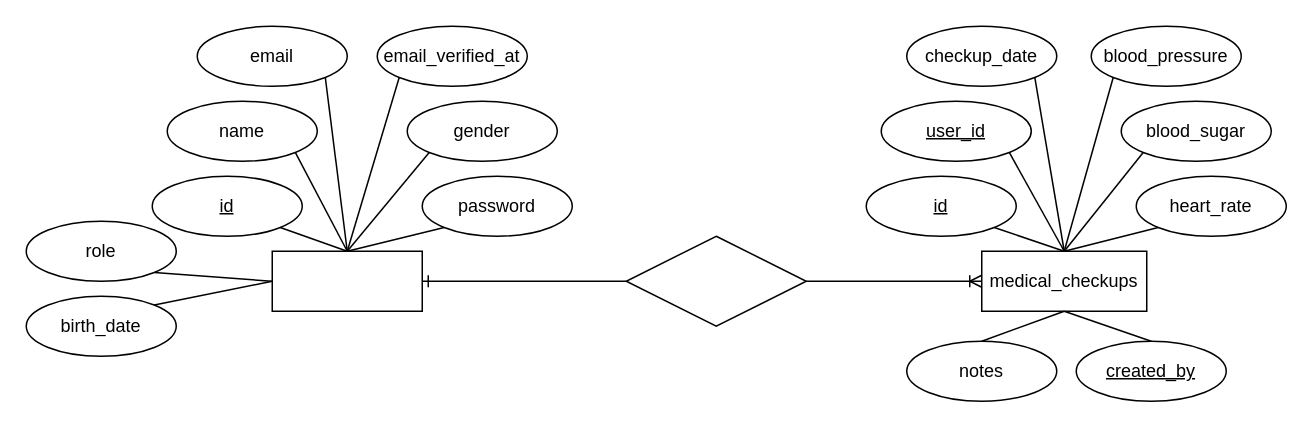
Some shapes in this 1313 by 428 pixel diagram are drawn without their labels. Here are the shapes that lost their labels. From the top down, the box of each, then its label:
(271, 250, 422, 311): users
(625, 235, 806, 326): punya
